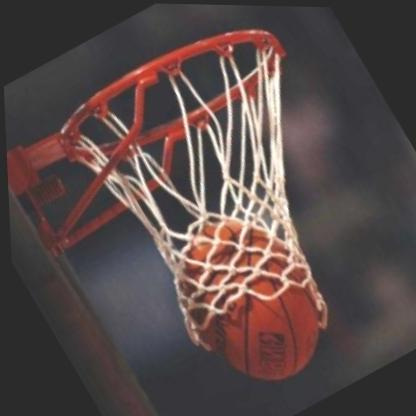basketball: (137, 182, 356, 411)
rim: (29, 1, 407, 364)
